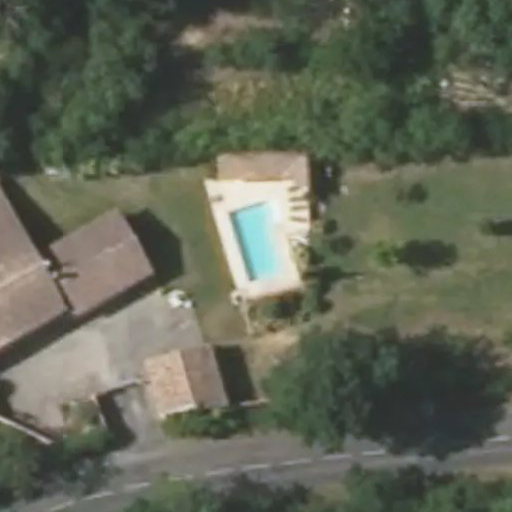pool: (227, 213, 294, 271)
